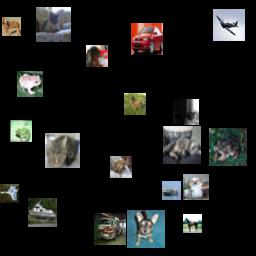airplane: (213, 9, 245, 41), (0, 184, 19, 203)
automobile: (131, 23, 163, 55)
cat: (163, 126, 201, 164), (45, 133, 80, 168), (36, 7, 71, 42), (173, 99, 199, 125)
deer: (124, 93, 146, 115)
dog: (127, 210, 165, 248), (183, 174, 209, 200), (86, 45, 108, 67)
frog: (209, 128, 247, 166), (17, 71, 43, 97), (110, 156, 132, 178), (10, 120, 32, 142)
ship: (28, 198, 57, 227), (162, 181, 181, 200)
truck: (94, 213, 126, 245)
